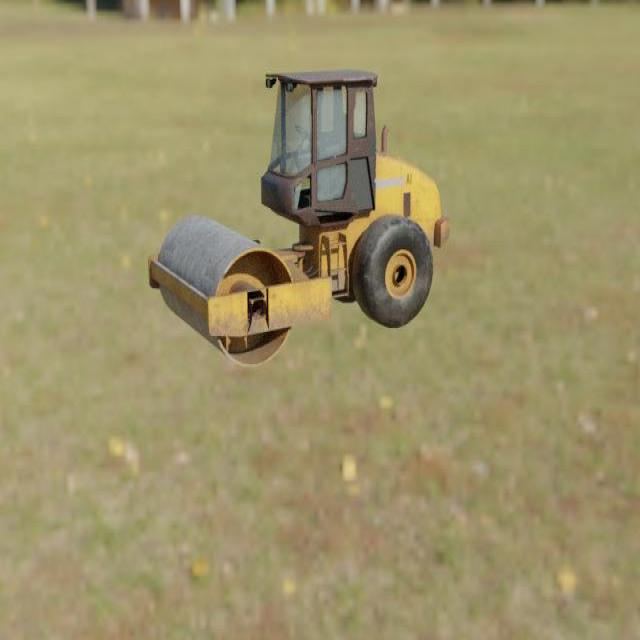Roller: (147, 68, 450, 367)
